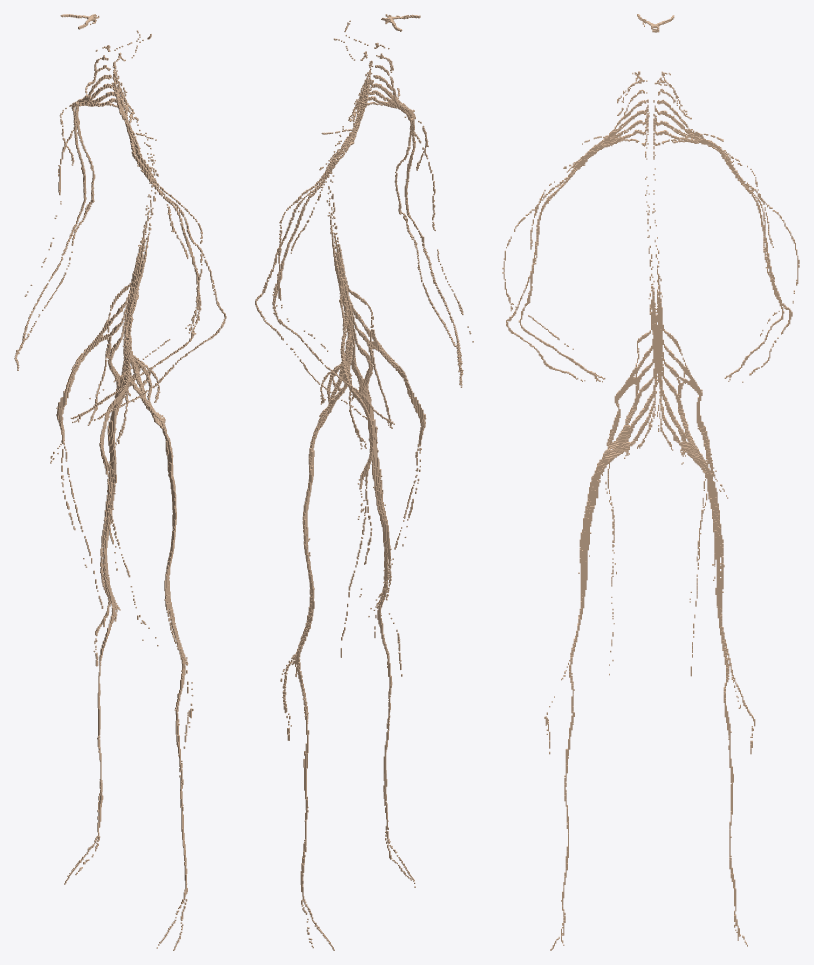
Rendered from nerve.fbx.
3 renders of one model, left to right at view 1: azimuth 30°, elevation 25°; view 2: azimuth 150°, elevation 25°; view 3: azimuth 270°, elevation 25°, orthographic.
Parts seen in each view (by area): view 1: AustinMan; view 2: AustinMan; view 3: AustinMan.
Boxes of the visible parts, x1,y1,x2,y2 form: AustinMan: [14, 14, 226, 950]; AustinMan: [255, 14, 473, 950]; AustinMan: [502, 14, 799, 950].
Bounding box in the file's own units: 11200 × 85900 × 25400.
